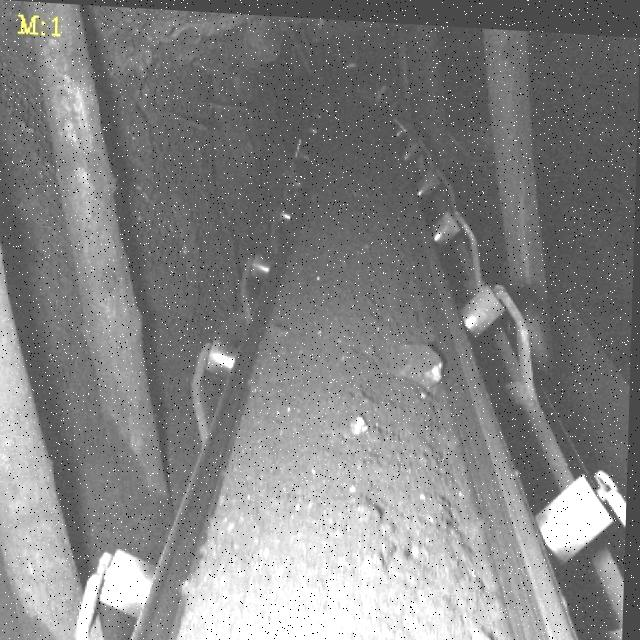large_sized_coal: (390, 333, 445, 378)
